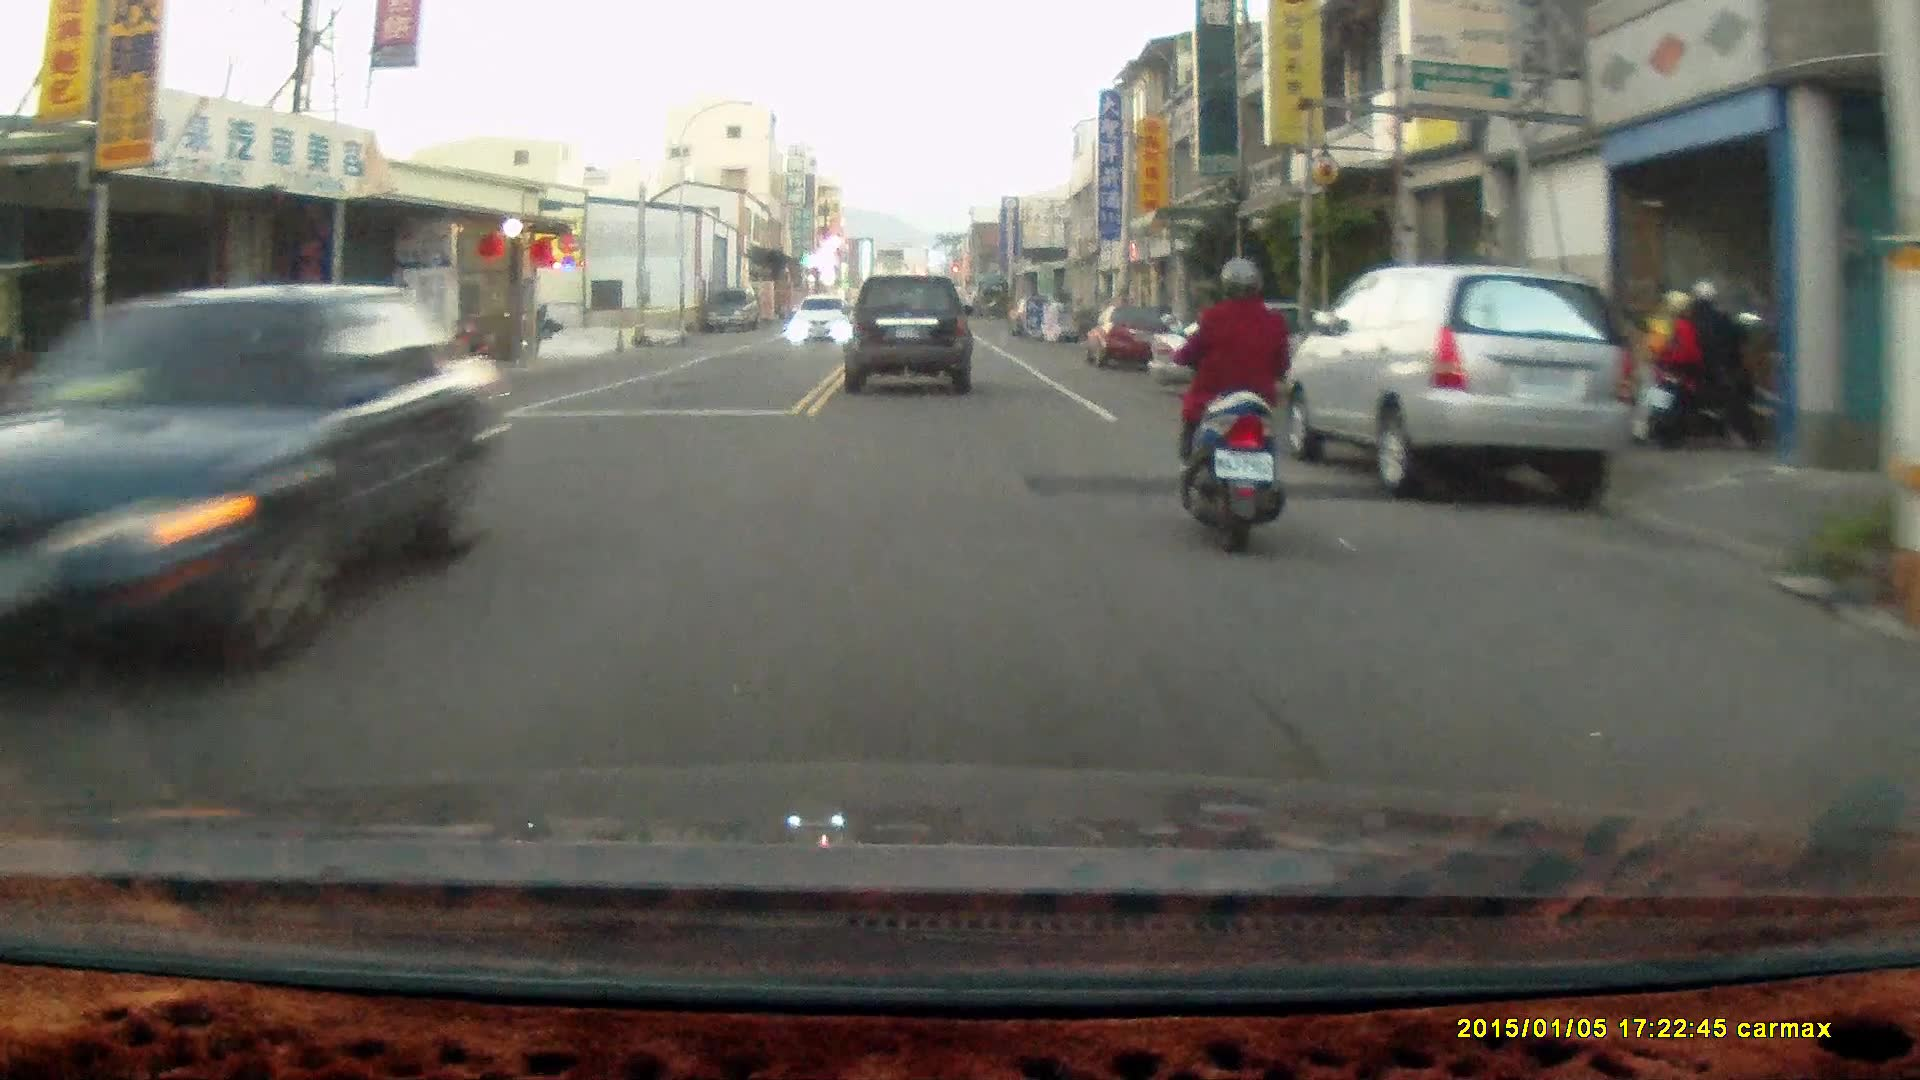rider: (1160, 252, 1288, 554), (1641, 279, 1768, 452)
vehicle: (1, 280, 512, 704), (1288, 262, 1638, 502), (844, 271, 975, 396), (1084, 304, 1175, 372), (788, 295, 848, 344)
